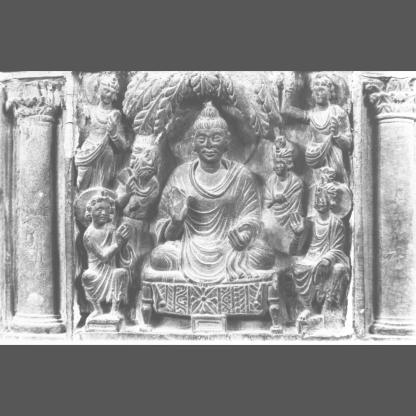buddha-sitting: (140, 90, 281, 315)
